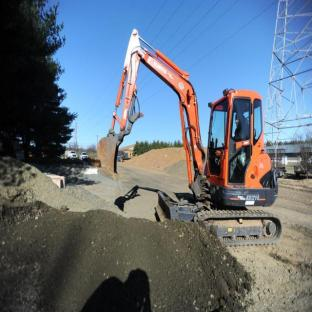ExcavationMachinery: (81, 15, 288, 253)
